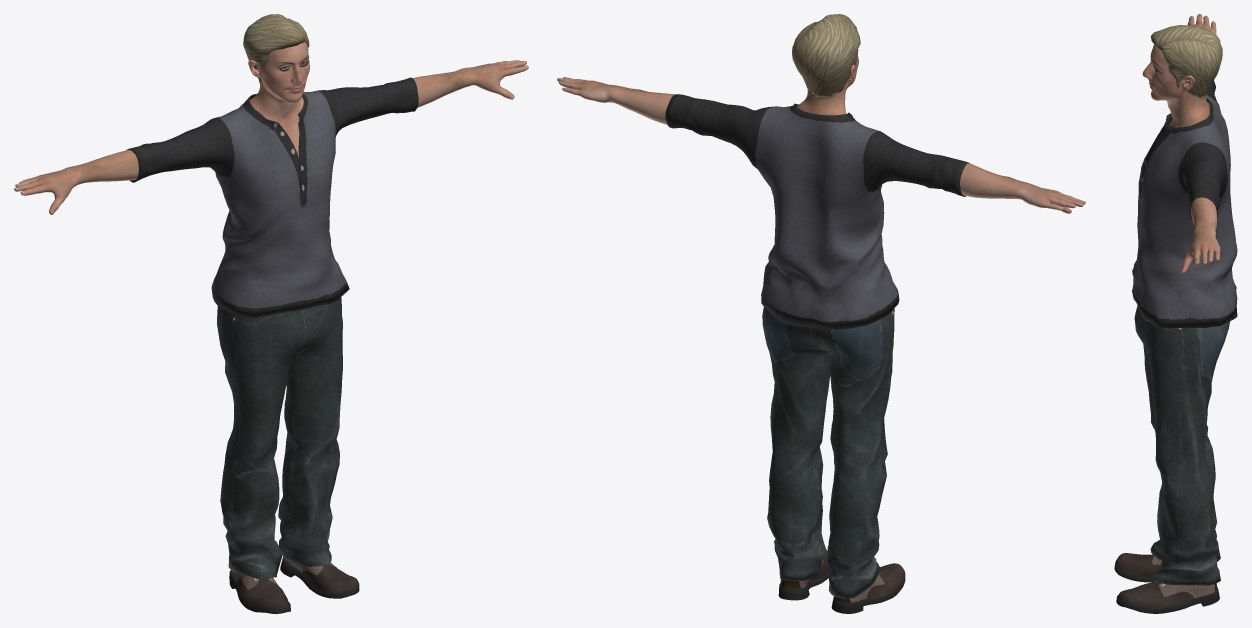
File: male1.obj
The picture shows the model from 3 angles, left to right: view 1: azimuth 30°, elevation 25°; view 2: azimuth 150°, elevation 25°; view 3: azimuth 270°, elevation 25°; orthographic projection. The views are drawn at different scales.
Parts seen in each view (by area): view 1: Tops_Topsmesh.001, Bottoms_Bottomsmesh.001, Body_Bodymesh.001, Shoes_Shoesmesh.001, Hair_Hairmesh.001; view 2: Tops_Topsmesh.001, Bottoms_Bottomsmesh.001, Body_Bodymesh.001, Hair_Hairmesh.001, Shoes_Shoesmesh.001; view 3: Tops_Topsmesh.001, Bottoms_Bottomsmesh.001, Body_Bodymesh.001, Shoes_Shoesmesh.001, Hair_Hairmesh.001.
Boxes of the visible parts, bbox=[...] form: Tops_Topsmesh.001: bbox=[126, 77, 418, 318]; Bottoms_Bottomsmesh.001: bbox=[217, 297, 342, 578]; Body_Bodymesh.001: bbox=[14, 42, 528, 214]; Shoes_Shoesmesh.001: bbox=[229, 557, 359, 613]; Hair_Hairmesh.001: bbox=[243, 14, 309, 82]; Tops_Topsmesh.001: bbox=[665, 94, 969, 329]; Bottoms_Bottomsmesh.001: bbox=[762, 307, 894, 598]; Body_Bodymesh.001: bbox=[557, 49, 1085, 213]; Hair_Hairmesh.001: bbox=[792, 14, 860, 97]; Shoes_Shoesmesh.001: bbox=[778, 550, 905, 613]; Tops_Topsmesh.001: bbox=[1132, 80, 1237, 327]; Bottoms_Bottomsmesh.001: bbox=[1134, 306, 1229, 585]; Body_Bodymesh.001: bbox=[1142, 14, 1220, 274]; Shoes_Shoesmesh.001: bbox=[1114, 553, 1219, 613]; Hair_Hairmesh.001: bbox=[1151, 25, 1222, 98].
Bounding box in the file's own units: 1.74 × 1.83 × 0.3626.
5 materials, 5 textured.
